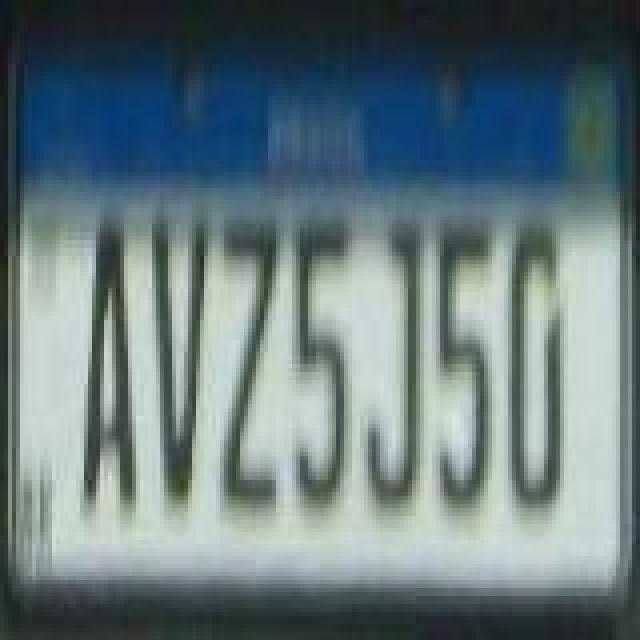5: (436, 222, 492, 514), (294, 218, 346, 510)
A: (82, 230, 142, 506)
D: (508, 218, 564, 518)
J: (364, 222, 420, 514)
V: (150, 222, 210, 498)
Z: (218, 222, 278, 514)
